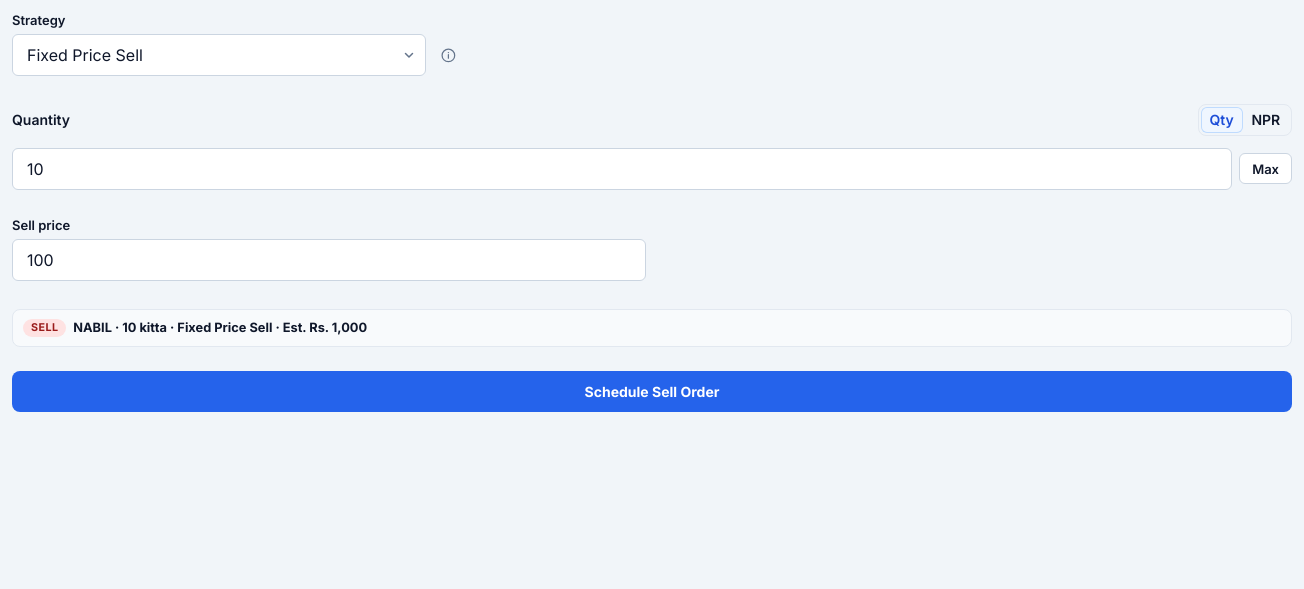
Test case: StrategySellForm › Schedule Strategy Order click shows missing-field error for Profit Ladder Sell
The width and height of the screenshot is (1304, 589).
Select "Profit Ladder Sell" in the dropdown labelled "Strategy" at x=219, y=55, box [12,34,426,76]
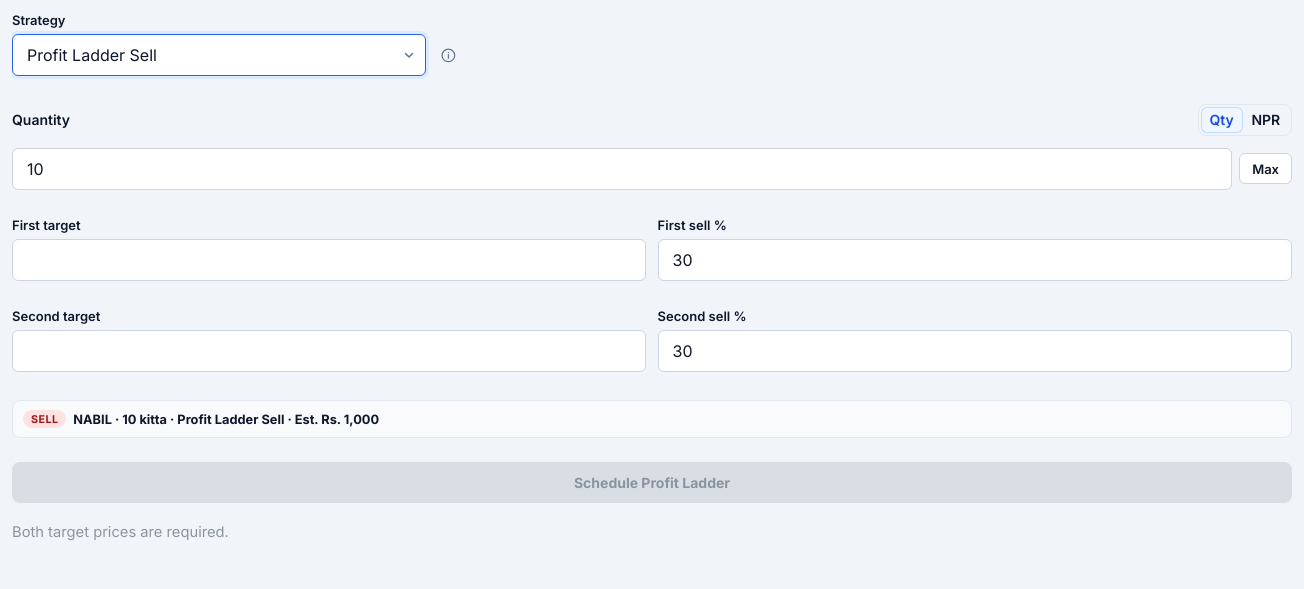
Click the button "Schedule Profit Ladder" at x=652, y=483, box [12,462,1292,503]
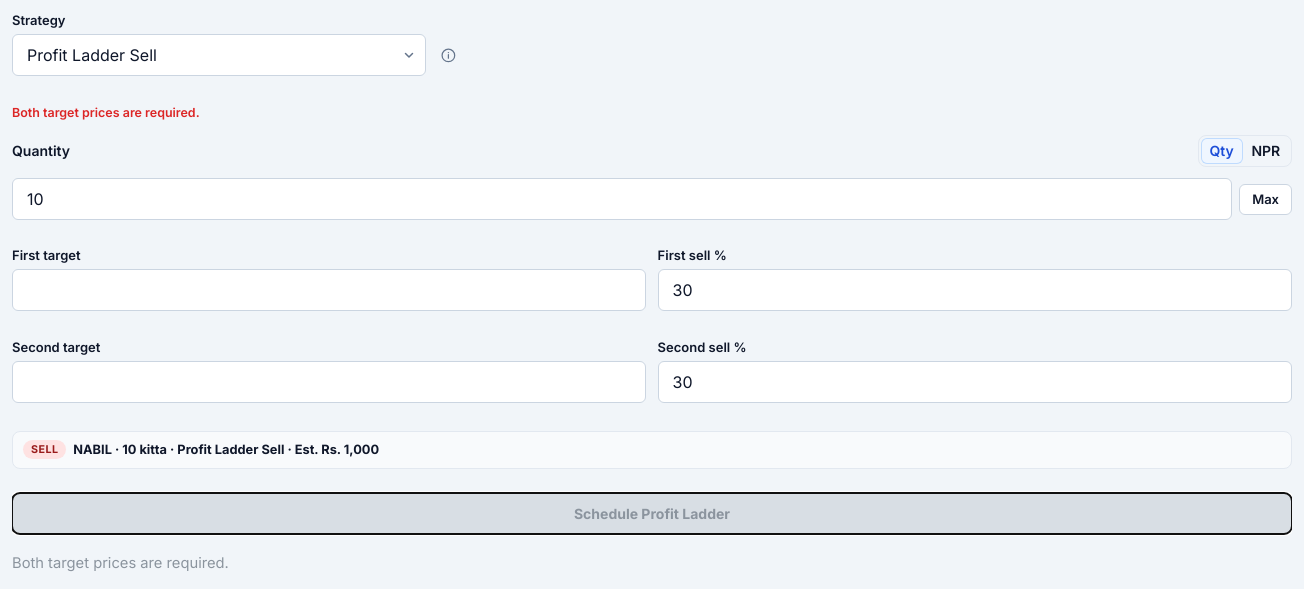
Now the message reads "Both target prices are required.", box [12,105,200,120]
